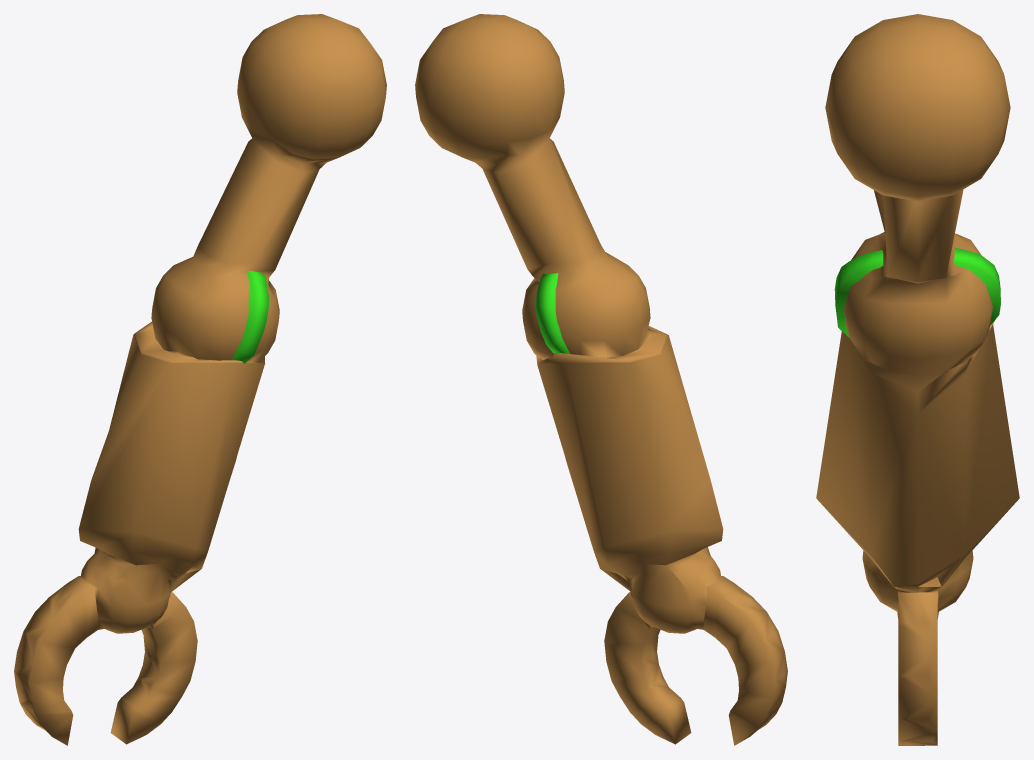
Rendered from Arm_L.fbx.
The picture shows the model from 3 angles, left to right: view 1: azimuth 30°, elevation 25°; view 2: azimuth 150°, elevation 25°; view 3: azimuth 270°, elevation 25°; orthographic projection. The views are drawn at different scales.
Visible parts, largest first — view 1: Nails; view 2: Nails; view 3: Nails.
Part boxes in pixels (x1,y1,x2,y2): Nails: (14, 14, 386, 745); Nails: (415, 14, 787, 745); Nails: (816, 14, 1019, 745).
Size of the model in its own units: 258 by 466 by 103.
